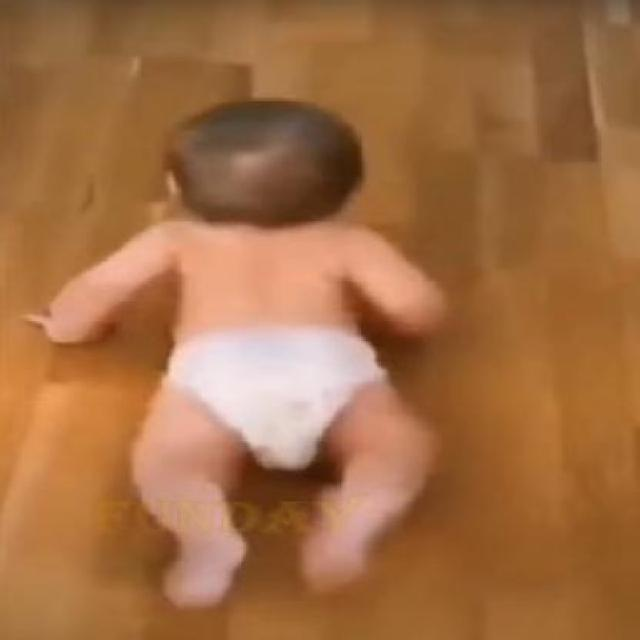baby: (22, 98, 444, 606)
